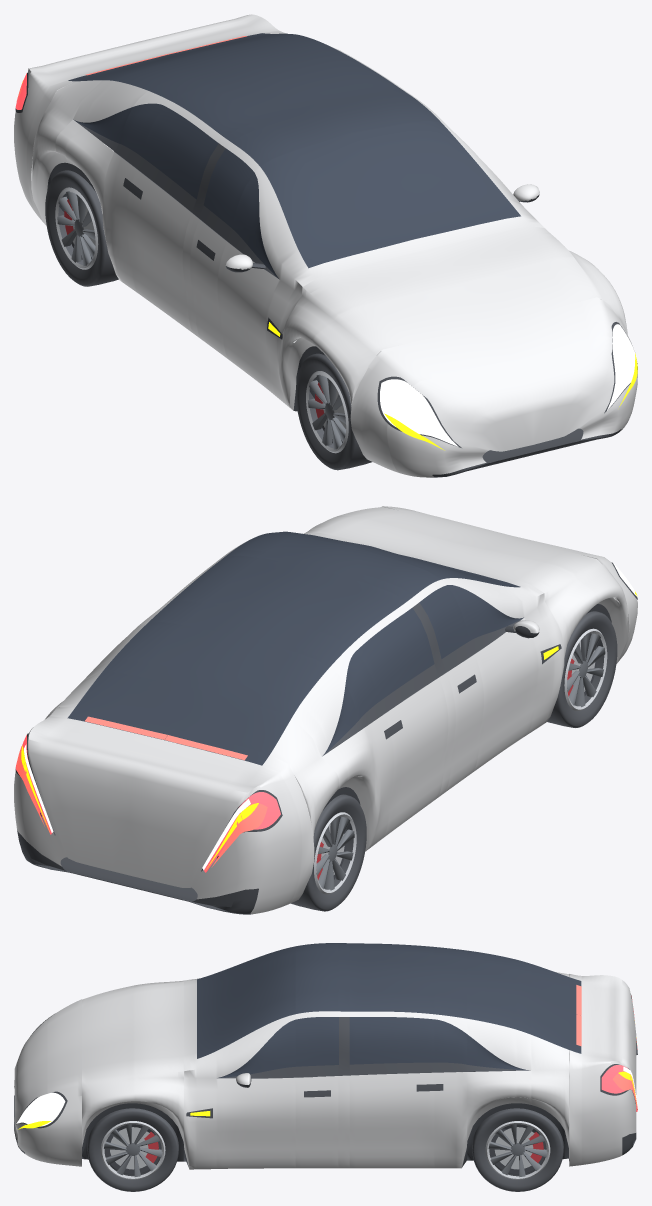
The model's file is tesla_ego_model3.glb.
The picture shows the model from 3 angles, top to bottom: view 1: azimuth 30°, elevation 25°; view 2: azimuth 150°, elevation 25°; view 3: azimuth 270°, elevation 25°; orthographic projection. The views are drawn at different scales.
Parts seen in each view (by area): view 1: Body, Wheel_RR, Wheel_FR, Headlight_R, Headlight_L; view 2: Body, Wheel_RR, Wheel_FR, BrakeLight_Center, Taillight_R, BrakeLight_R; view 3: Body, Wheel_RL, Wheel_FL, Headlight_L, Taillight_L, BrakeLight_Center.
Boxes of the visible parts, left/top/right/bottom form: Body: left=14, top=14, right=637, bottom=477; Wheel_RR: left=45, top=170, right=118, bottom=286; Wheel_FR: left=296, top=353, right=371, bottom=470; Headlight_R: left=380, top=379, right=458, bottom=446; Headlight_L: left=607, top=324, right=637, bottom=410; Body: left=14, top=506, right=637, bottom=914; Wheel_RR: left=290, top=794, right=366, bottom=911; Wheel_FR: left=547, top=611, right=617, bottom=727; BrakeLight_Center: left=85, top=716, right=247, bottom=760; Taillight_R: left=204, top=792, right=280, bottom=872; BrakeLight_R: left=211, top=803, right=267, bottom=867; Body: left=14, top=943, right=637, bottom=1169; Wheel_RL: left=472, top=1108, right=563, bottom=1191; Wheel_FL: left=87, top=1108, right=178, bottom=1191; Headlight_L: left=16, top=1092, right=65, bottom=1126; Taillight_L: left=601, top=1065, right=637, bottom=1111; BrakeLight_Center: left=576, top=985, right=581, bottom=1046.
Bounding box in the file's own units: 2.07 × 1.45 × 4.66.
